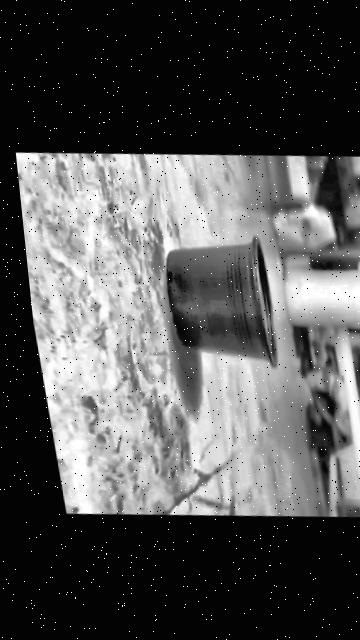pot: (157, 228, 284, 374)
